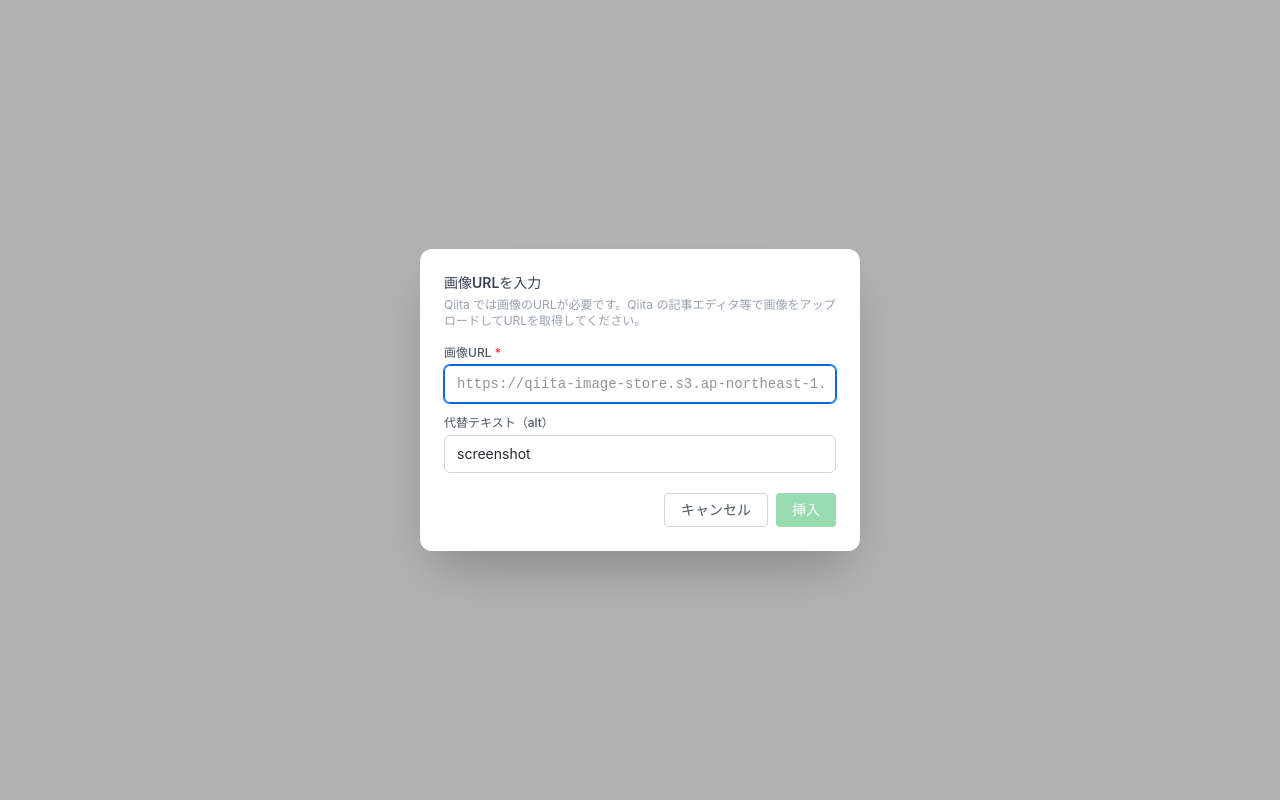
Test case: ImageUrlInputModal › 表示 › URL 入力後は「挿入」ボタンが有効になる
Replace the text in the field with placeholder "qiita-image-store" with "https://example.com/img.png" at (640,384), box [444,365,836,403]
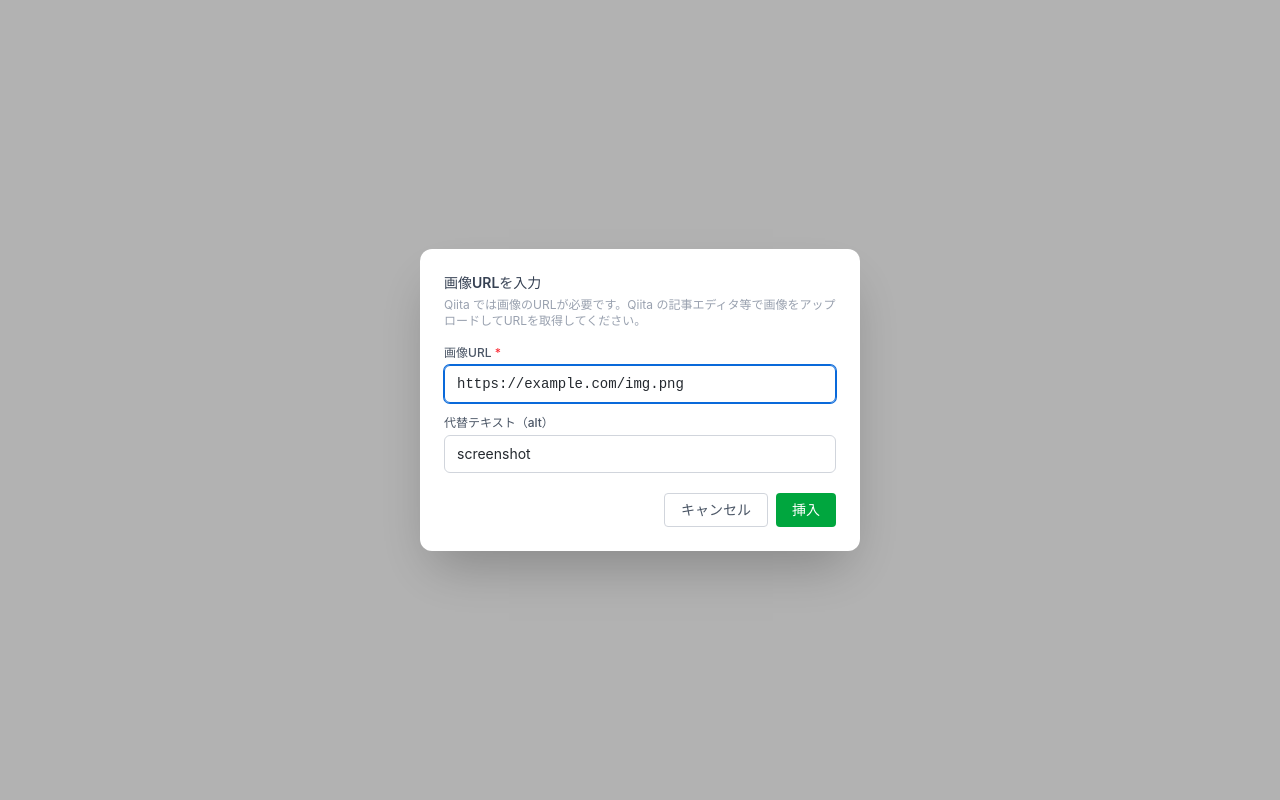
Expected: the button "挿入" is enabled, [776,493,836,527]
